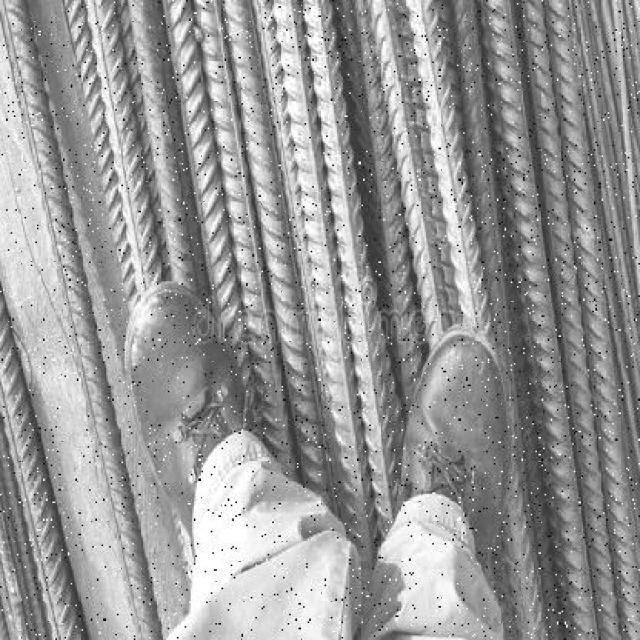shoes: (123, 287, 279, 578), (400, 326, 509, 592)
